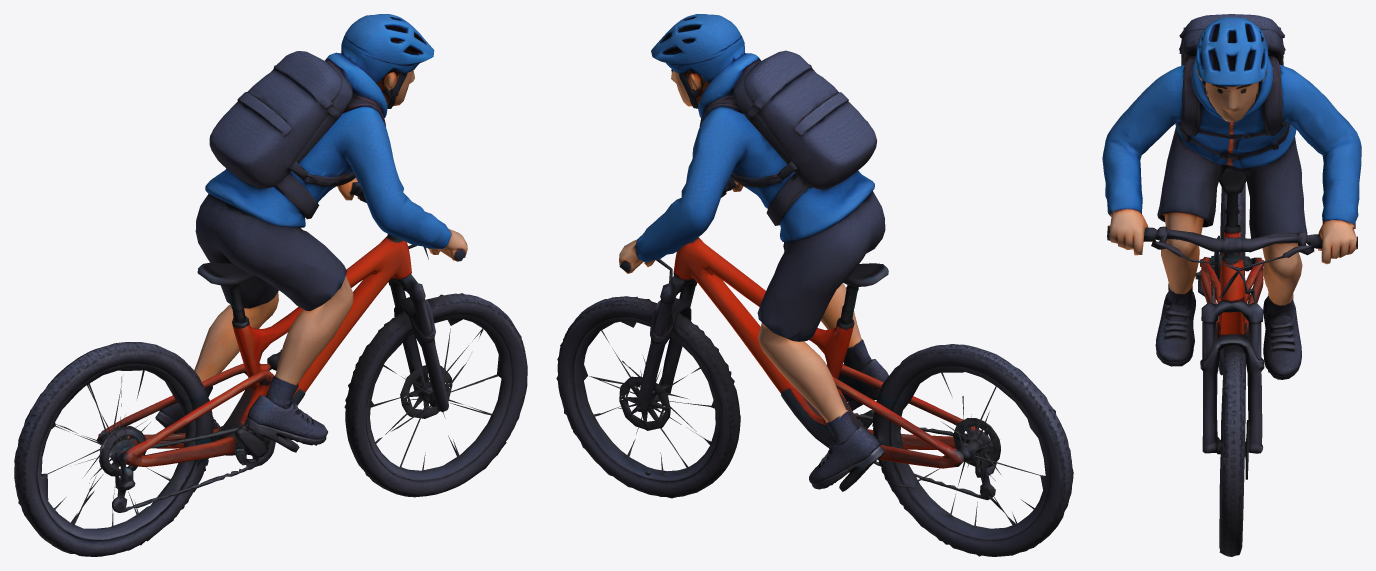
The model's file is bike.glb.
The picture shows the model from 3 angles, left to right: view 1: azimuth 30°, elevation 25°; view 2: azimuth 150°, elevation 25°; view 3: azimuth 270°, elevation 25°; orthographic projection. The views are drawn at different scales.
Parts seen in each view (by area): view 1: tripo_node_17018b59-d5f3-4044-8c67-f9295151396e; view 2: tripo_node_17018b59-d5f3-4044-8c67-f9295151396e; view 3: tripo_node_17018b59-d5f3-4044-8c67-f9295151396e.
Part boxes in pixels (bbox=[...]): tripo_node_17018b59-d5f3-4044-8c67-f9295151396e: bbox=[14, 14, 527, 556]; tripo_node_17018b59-d5f3-4044-8c67-f9295151396e: bbox=[556, 14, 1073, 556]; tripo_node_17018b59-d5f3-4044-8c67-f9295151396e: bbox=[1102, 14, 1361, 556].
Size of the model in its own units: 0.9791 by 0.8972 by 0.422.
Materials: 1 (1 with a texture image).
